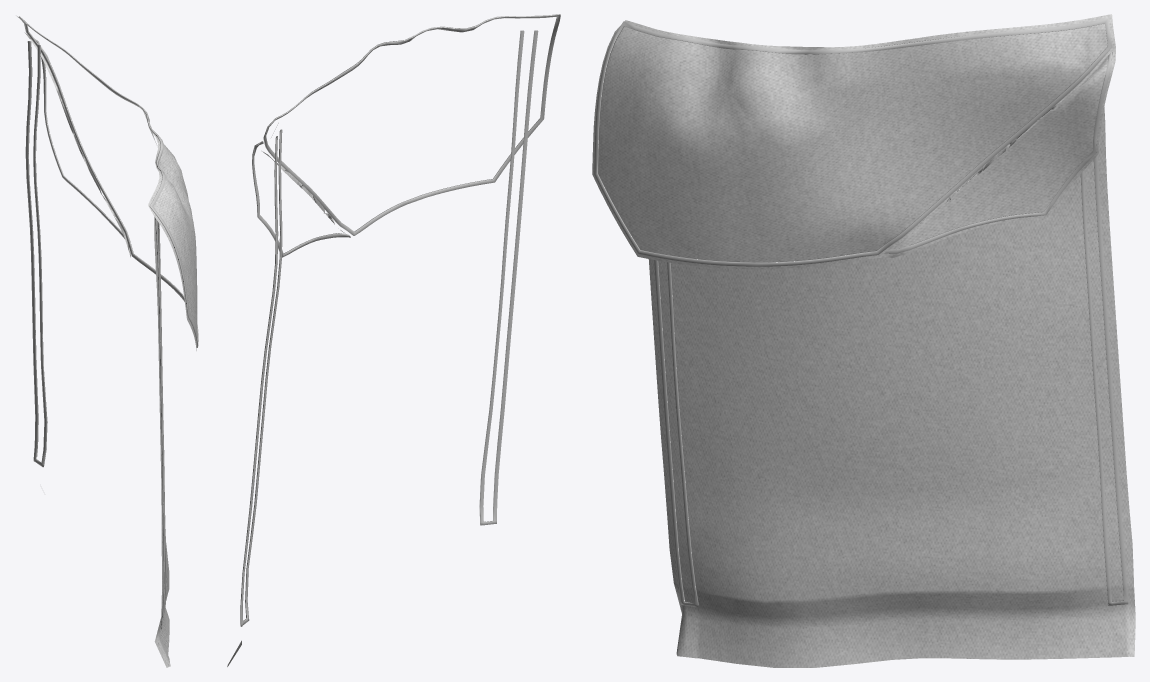
Rendered from Pocket_Right_V2.glb.
The picture shows the model from 3 angles, left to right: view 1: azimuth 30°, elevation 25°; view 2: azimuth 150°, elevation 25°; view 3: azimuth 270°, elevation 25°; orthographic projection. The views are drawn at different scales.
Parts seen in each view (by area): view 1: Rope1, Pocket_Right_V21; view 2: Rope1; view 3: Pocket_Right_V21, Rope1.
Part boxes in pixels (x1,y1,x2,y2): Rope1: (18,16,198,629); Pocket_Right_V21: (16,15,197,667); Rope1: (240,14,560,626); Pocket_Right_V21: (592,14,1135,667); Rope1: (594,18,1128,607).
Size of the model in its own units: 0.0603 by 0.3058 by 0.2307.
Materials: 2 (2 with a texture image).
